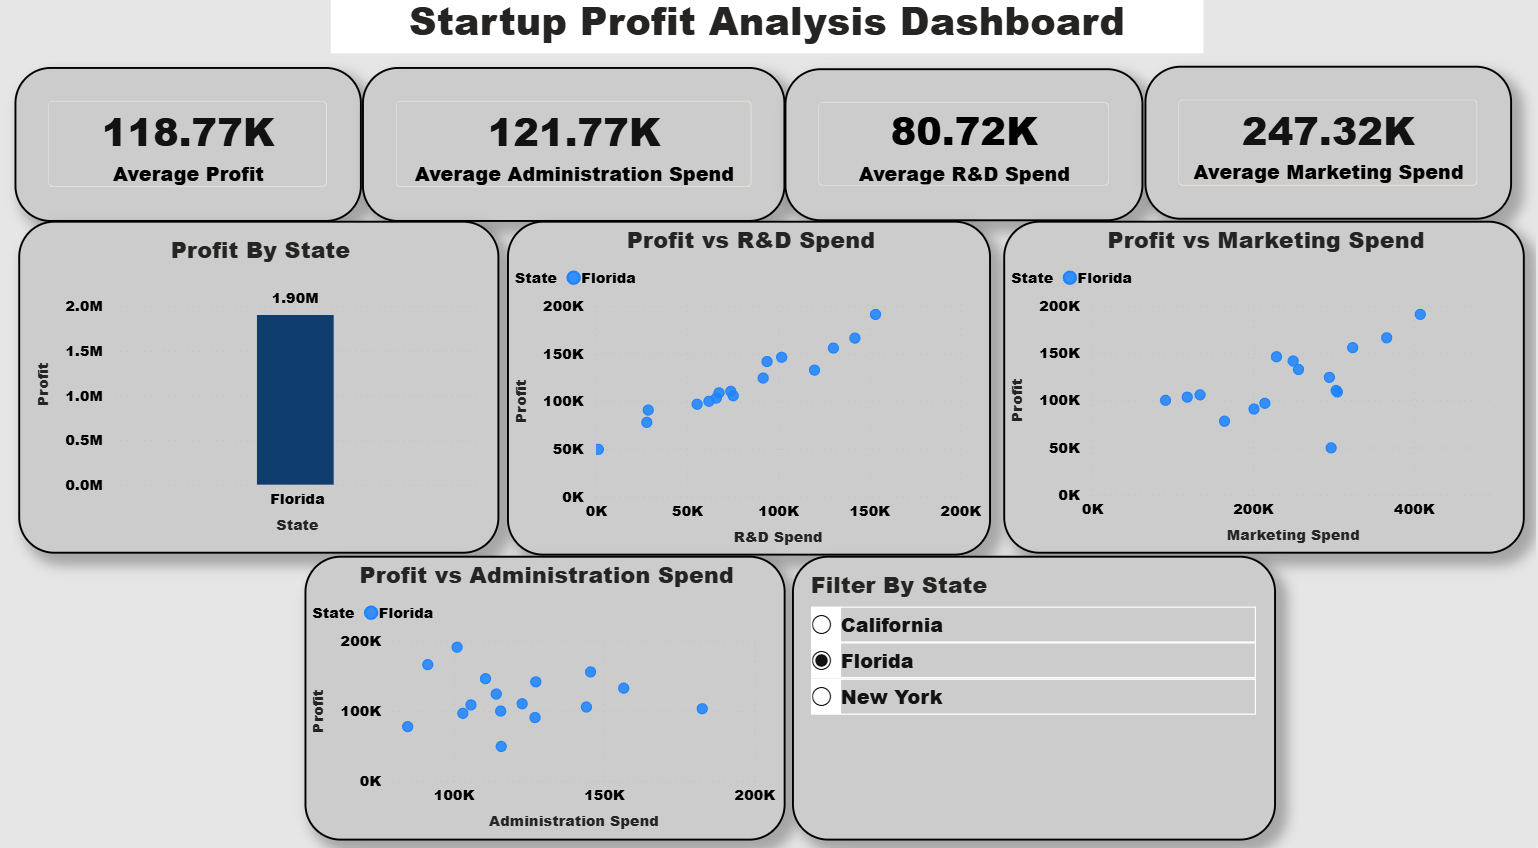

The page's visual inventory and layout, read from the dashboard file:
{"tool":"powerbi","page":{"name":"Page 1","canvas":[1280,720],"ordinal":0},"visuals":[{"type":"cardVisual","title":"Average Profit","fields":{"Data":["Avg(startup.Profit)"]},"box":[14.4,66.4,288.6,128.4],"z":0},{"type":"textbox","box":[277,0,725.7,54.8],"z":1000},{"type":"cardVisual","fields":{"Data":["Avg(startup.Administration)"]},"box":[303,66.4,352,128.4],"z":2000},{"type":"cardVisual","fields":{"Data":["Avg(startup.RD_Spend)"]},"box":[655,67.8,298.7,127],"z":3000},{"type":"cardVisual","fields":{"Data":["Avg(startup.Marketing_Spend)"]},"box":[954,65.9,305.6,128.2],"z":4000},{"type":"clusteredColumnChart","title":"Profit By State","fields":{"Category":["startup.State"],"Y":["Sum(startup.Profit)"]},"box":[17.3,194.8,399.6,277],"z":5000},{"type":"scatterChart","title":"Profit vs R&D Spend","fields":{"X":["startup.RD_Spend"],"Y":["startup.Profit"],"Series":["startup.State"]},"box":[424.2,194.8,402.5,278.5],"z":6000},{"type":"scatterChart","title":"Profit vs Marketing Spend","fields":{"Y":["startup.Profit"],"Series":["startup.State"],"X":["startup.Marketing_Spend"]},"box":[836.6,194.2,433.9,276.9],"z":7000},{"type":"scatterChart","title":"Profit vs Administration Spend","fields":{"Y":["startup.Profit"],"Series":["startup.State"],"X":["startup.Administration"]},"box":[255.4,473.2,399.6,236.6],"z":8000},{"type":"listSlicer","title":"Filter By State","fields":{"Values":["startup.State"]},"box":[660.8,473.2,402.5,236.6],"z":9000}]}

Visuals, with their boxes in screenshot pixels (x1, y1, x2, y2), scaled from the page's 1280x720 canvas onto the 1538x848 screenshot:
"Average Profit" cardVisual: BBox(17, 78, 364, 229)
textbox: BBox(333, 0, 1205, 65)
cardVisual - Avg(startup.Administration): BBox(364, 78, 787, 229)
cardVisual - Avg(startup.RD_Spend): BBox(787, 80, 1146, 229)
cardVisual - Avg(startup.Marketing_Spend): BBox(1146, 78, 1513, 229)
"Profit By State" clusteredColumnChart: BBox(21, 229, 501, 556)
"Profit vs R&D Spend" scatterChart: BBox(510, 229, 993, 557)
"Profit vs Marketing Spend" scatterChart: BBox(1005, 229, 1527, 555)
"Profit vs Administration Spend" scatterChart: BBox(307, 557, 787, 836)
"Filter By State" listSlicer: BBox(794, 557, 1278, 836)
